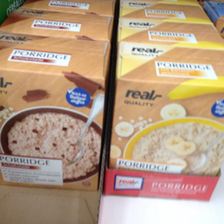cereal: (1, 31, 111, 190), (111, 43, 224, 172)
